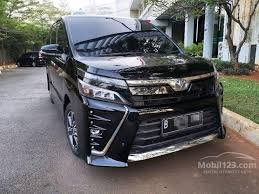mobil: (43, 15, 238, 171)
